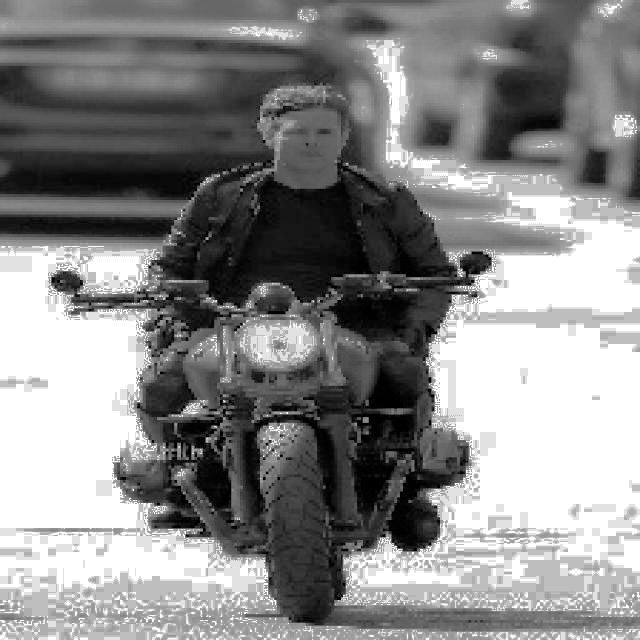Bike: (69, 270, 506, 634)
